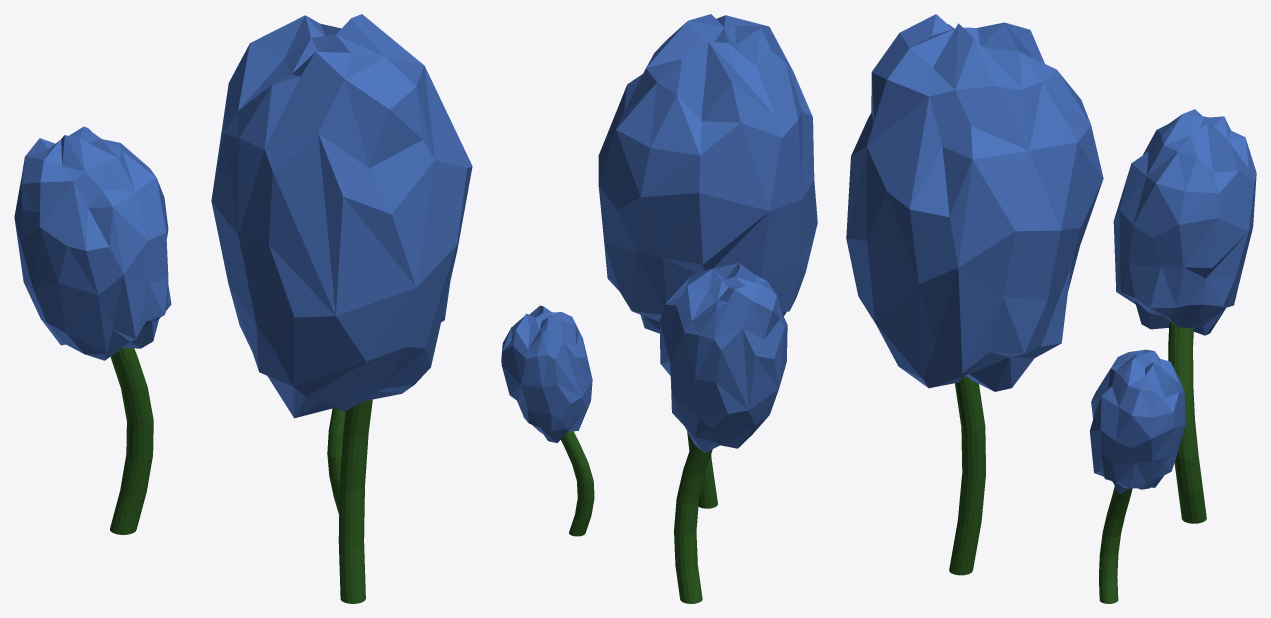
Rendered from Pot_1b_plant.fbx.
3 renders of one model, left to right at view 1: azimuth 30°, elevation 25°; view 2: azimuth 150°, elevation 25°; view 3: azimuth 270°, elevation 25°, orthographic. The views are drawn at different scales.
Visible parts, largest first — view 1: Sphere.002; view 2: Sphere.002; view 3: Sphere.002.
Part boxes in pixels (x1,y1,x2,y2): Sphere.002: (14,14,472,603); Sphere.002: (501,14,817,603); Sphere.002: (846,14,1256,603).
Bounding box in the file's own units: 76.92 × 122 × 83.39.
